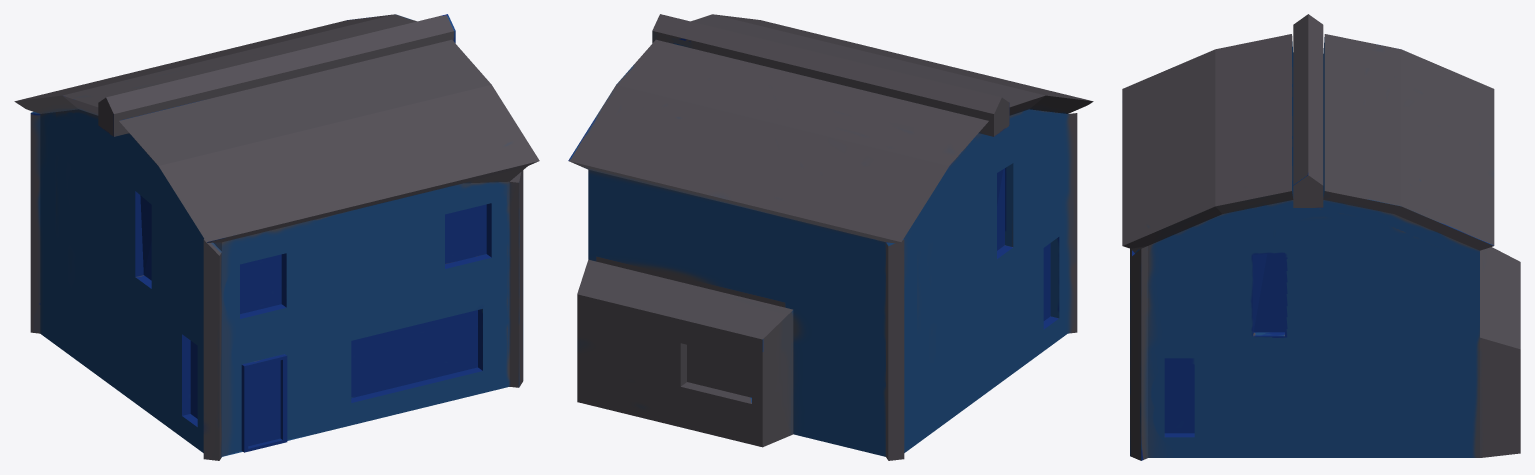
The model's file is house 2.fbx.
The picture shows the model from 3 angles, left to right: view 1: azimuth 30°, elevation 25°; view 2: azimuth 150°, elevation 25°; view 3: azimuth 270°, elevation 25°; orthographic projection. The views are drawn at different scales.
Parts seen in each view (by area): view 1: House 2; view 2: House 2; view 3: House 2.
Boxes of the visible parts, x1,y1,x2,y2 form: House 2: (14,14,539,460); House 2: (568,14,1093,460); House 2: (1122,14,1520,460).
Bounding box in the file's own units: 1518 × 1278 × 1584.
